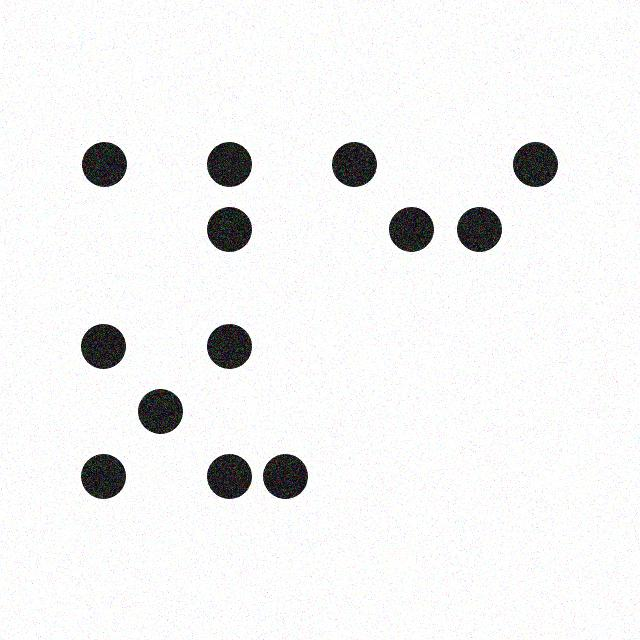A: (77, 136, 187, 305)
B: (203, 135, 313, 307)
E: (328, 135, 437, 310)
I: (453, 135, 564, 311)
O: (78, 318, 189, 504)
U: (202, 320, 313, 504)
